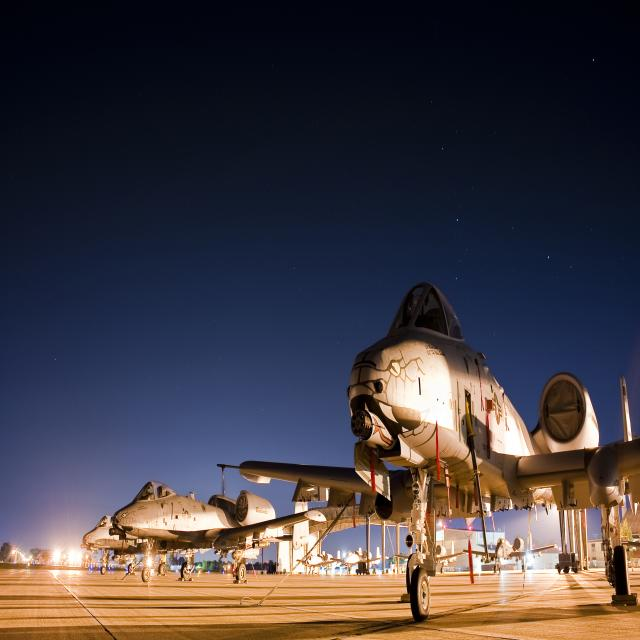MIL_Plane: (217, 282, 640, 621), (108, 481, 326, 582), (80, 515, 233, 575), (463, 532, 558, 573), (394, 540, 468, 574), (330, 547, 389, 574), (296, 550, 344, 574)
